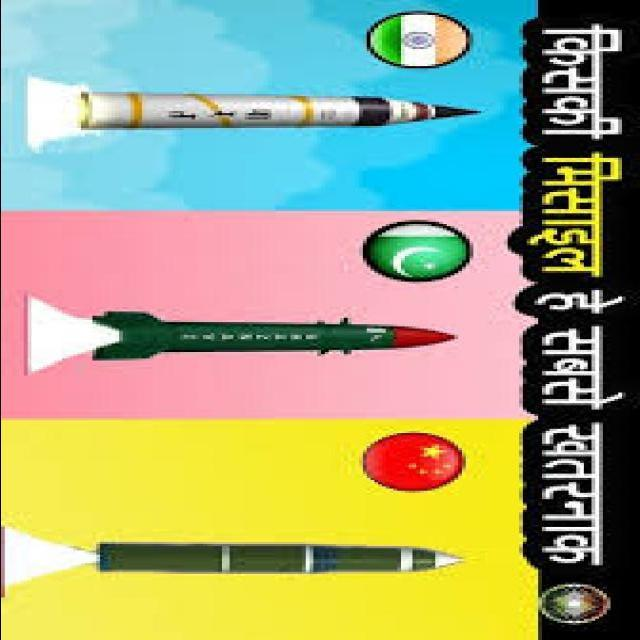Missile: (67, 90, 482, 134), (87, 314, 466, 361), (83, 543, 475, 576)
